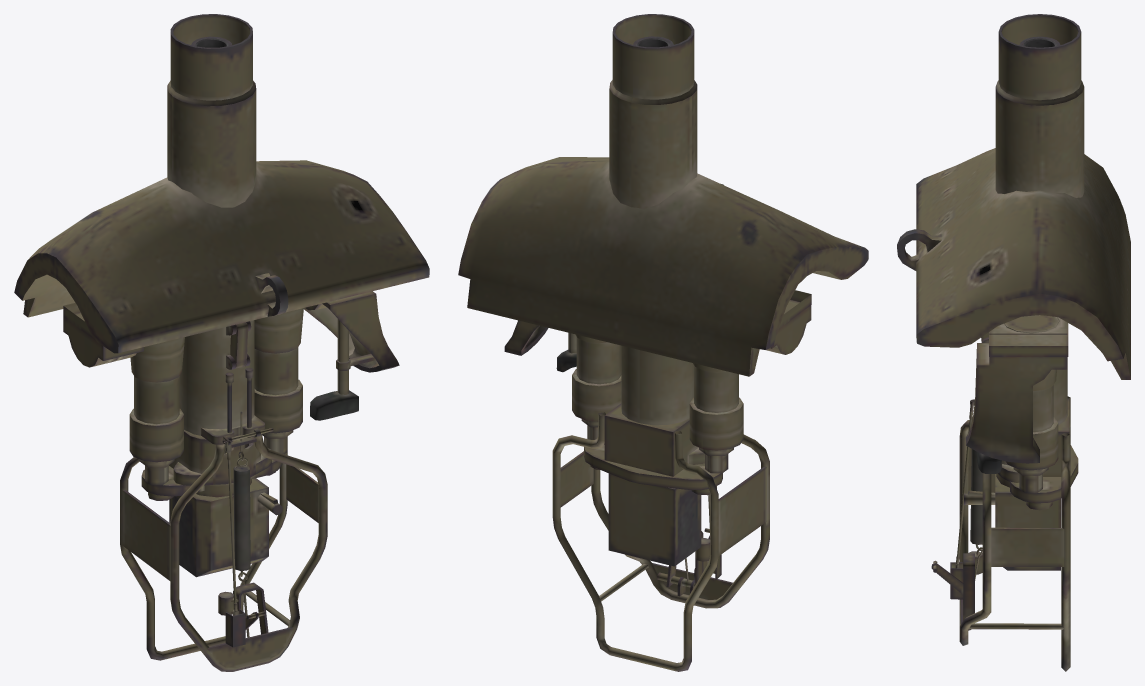
The model's file is Gun_05.glb.
The picture shows the model from 3 angles, left to right: view 1: azimuth 30°, elevation 25°; view 2: azimuth 150°, elevation 25°; view 3: azimuth 270°, elevation 25°; orthographic projection.
Parts seen in each view (by area): view 1: set_0_group_0; view 2: set_0_group_0; view 3: set_0_group_0.
Boxes of the visible parts, <box> form: set_0_group_0: <box>14,14,429,671</box>; set_0_group_0: <box>458,14,868,671</box>; set_0_group_0: <box>897,14,1130,671</box>.
Size of the model in its own units: 0.8983 by 1.73 by 0.5882.
1 material, 1 textured.
